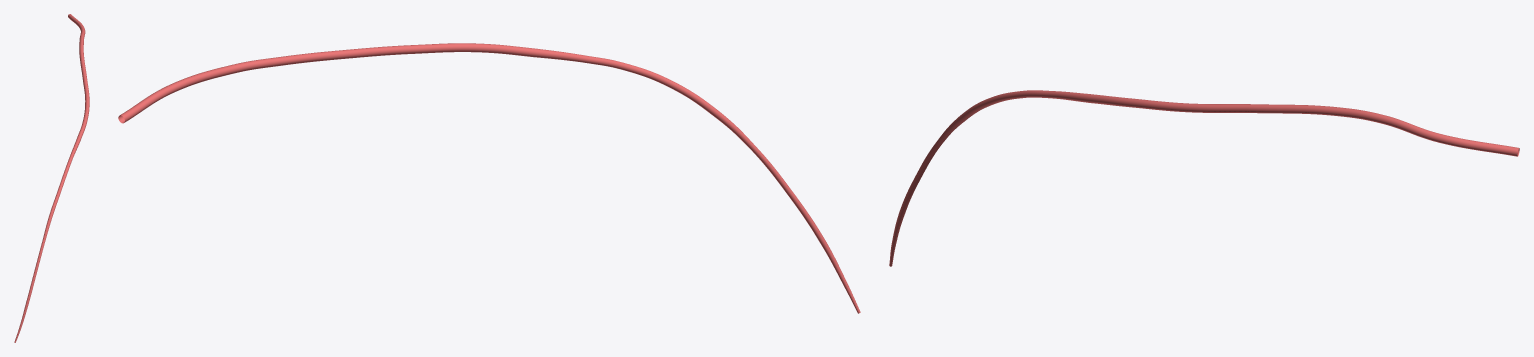
File: Frontal_branch_of_superficial_temporal_artery.r_BezierCurve.081.glb
3 views of the same model, side by side, from view 1: azimuth 30°, elevation 25°; view 2: azimuth 150°, elevation 25°; view 3: azimuth 270°, elevation 25° (orthographic). The views are drawn at different scales.
Parts seen in each view (by area): view 1: Frontal_branch_of_superficial_temporal_artery.r_BezierCurve.; view 2: Frontal_branch_of_superficial_temporal_artery.r_BezierCurve.; view 3: Frontal_branch_of_superficial_temporal_artery.r_BezierCurve..
Part boxes in pixels (box(x1,y1,x2,y2)): Frontal_branch_of_superficial_temporal_artery.r_BezierCurve.: box(14, 14, 89, 342); Frontal_branch_of_superficial_temporal_artery.r_BezierCurve.: box(118, 43, 860, 313); Frontal_branch_of_superficial_temporal_artery.r_BezierCurve.: box(889, 90, 1519, 266).
Size of the model in its own units: 0.0333 by 0.0249 by 0.0424.
